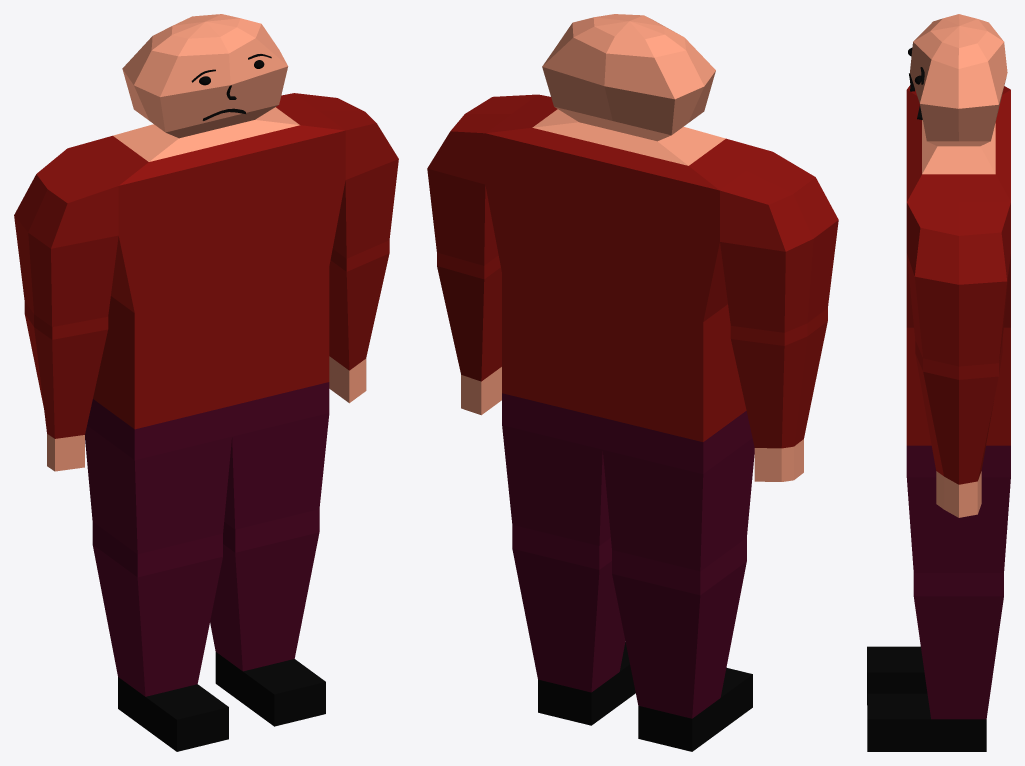
The model's file is Npc.fbx.
3 views of the same model, side by side, from view 1: azimuth 30°, elevation 25°; view 2: azimuth 150°, elevation 25°; view 3: azimuth 270°, elevation 25° (orthographic). The views are drawn at different scales.
Visible parts, largest first — view 1: Cube, Cube.005, Cube.007, Cube.006, hAND, Cube.009; view 2: Cube, Cube.005, Cube.007, Cube.006, hAND, Cube.009; view 3: Cube, Cube.006, Cube.007, Cube.009.
Boxes of the visible parts, x1=… form: Cube: x1=68, y1=93, x2=345, y2=751; Cube.005: x1=14, y1=148, x2=118, y2=438; Cube.007: x1=122, y1=14, x2=288, y2=138; Cube.006: x1=295, y1=93, x2=398, y2=370; hAND: x1=47, y1=434, x2=84, y2=471; Cube.009: x1=329, y1=356, x2=366, y2=403; Cube: x1=485, y1=94, x2=772, y2=751; Cube.005: x1=720, y1=152, x2=838, y2=448; Cube.007: x1=542, y1=14, x2=715, y2=141; Cube.006: x1=427, y1=94, x2=537, y2=381; hAND: x1=754, y1=439, x2=803, y2=481; Cube.009: x1=461, y1=367, x2=501, y2=415; Cube: x1=867, y1=89, x2=1010, y2=751; Cube.006: x1=906, y1=202, x2=1010, y2=484; Cube.007: x1=910, y1=14, x2=1007, y2=146; Cube.009: x1=936, y1=471, x2=981, y2=517.
Size of the model in its own units: 176 by 319 by 60.23.
